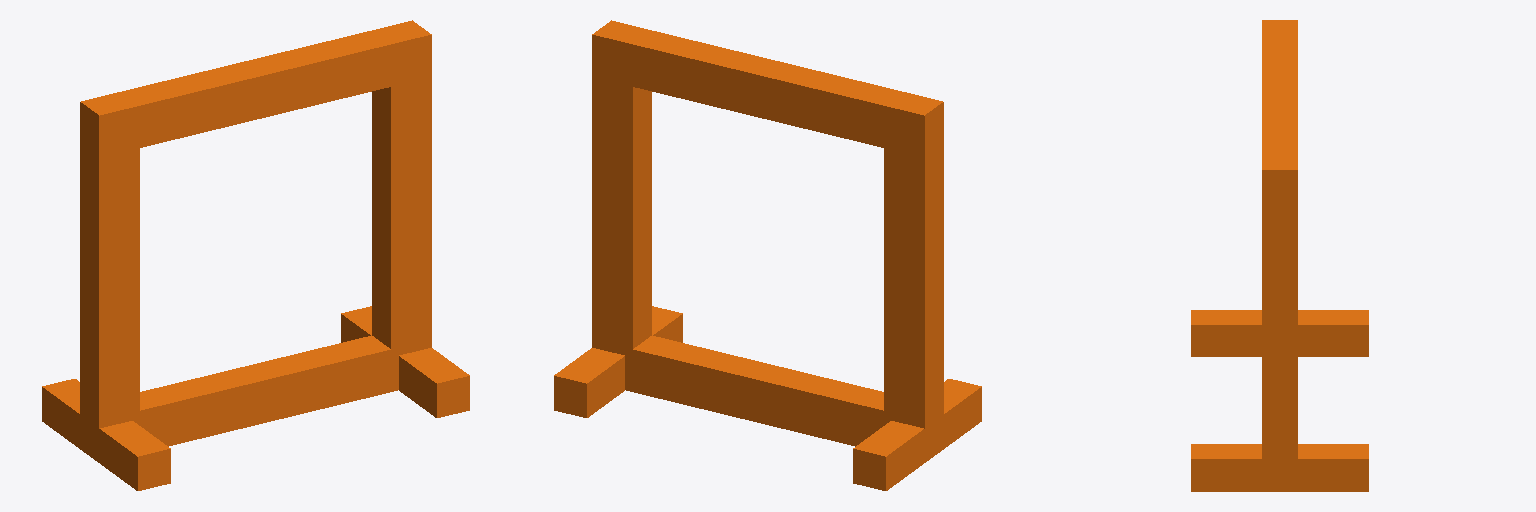
URDF robot description (gate_short):
<?xml version="1.0" ?>
<robot name="gate_short">

    <material name = "heritage-orange">
        <color rgba = "0.96078 0.50980 0.11764 1" />
    </material>
    
    <link name="gate">
        <visual>
            <origin rpy="0 0 0" xyz="0 0 0"/>
            <geometry>
                <mesh filename="gate_short.stl" scale="8 8 8"/>
            </geometry>
            <material name = "heritage-orange"/>
        </visual>
        <collision concave="yes">
            <origin rpy="0 0 0" xyz="0 0 0"/>
            <geometry>
                <mesh filename="gate_short.stl" scale="8 8 8"/>
            </geometry>
        </collision>
        <inertial>
            <origin rpy="0 0 0" xyz="0 0 0"/>
            <mass value="0"/>
            <inertia ixx="0" ixy="0" ixz="0" iyy="0" iyz="0" izz="0"/>
        </inertial>
    </link>

</robot>

--- What the picture shows (computed from the rendered views, not written in the file) ---
The picture shows the robot from 3 angles, left to right: view 1: azimuth 30°, elevation 25°; view 2: azimuth 150°, elevation 25°; view 3: azimuth 270°, elevation 25°; orthographic projection.
Model gate_short with 1 links and 0 joints (none), rooted at gate, posed all joints at 0.
Visible links, largest first — view 1: gate; view 2: gate; view 3: gate.
Boxes of the visible links, x1,y1,x2,y2 form: gate: [42, 20, 469, 490]; gate: [554, 20, 981, 490]; gate: [1191, 20, 1368, 491].
Bounding box of the posed robot: 8 × 4 × 8 m (x, y, z).
Meshes: 1 distinct files referenced, 1 mesh visuals loaded (1 binary STL).